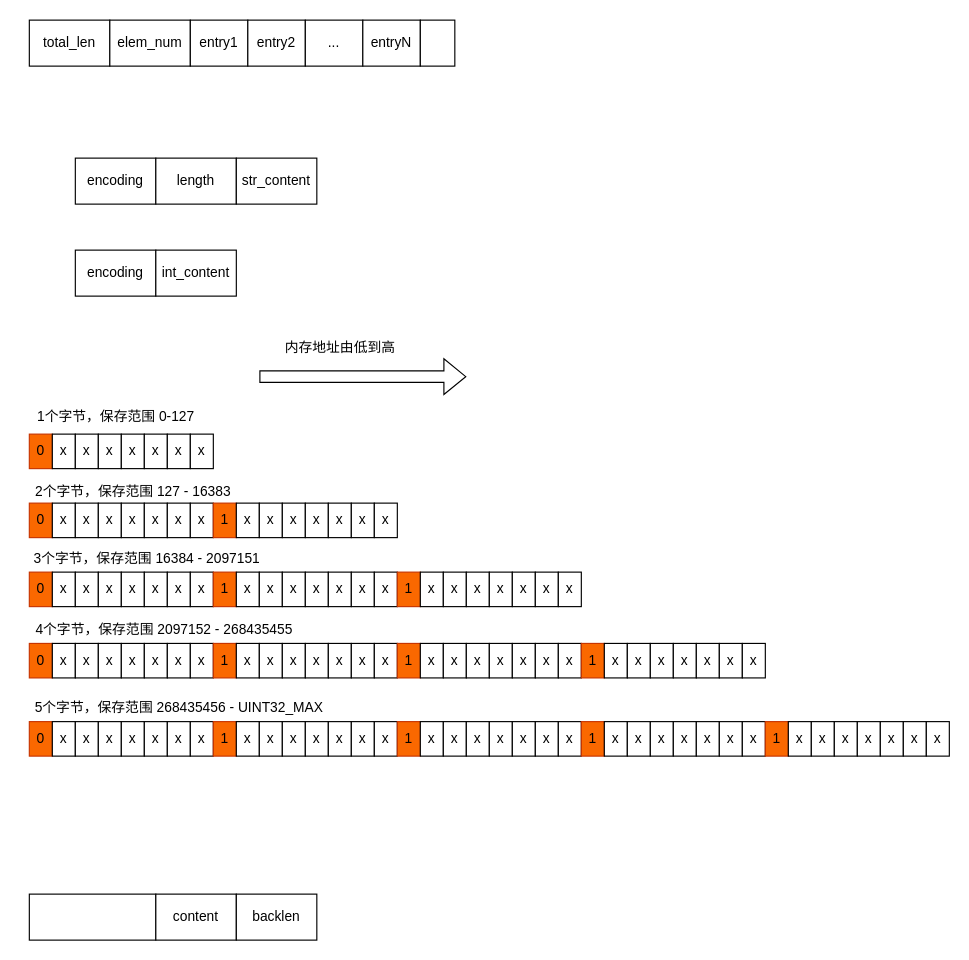
Some shapes in this 969 by 960 pixel diagram are drawn without their labels. The centre of each missing label's shape, as x and y in pixels:
"encoding+length" belongs at (92,916).
"end" belongs at (437,42).
